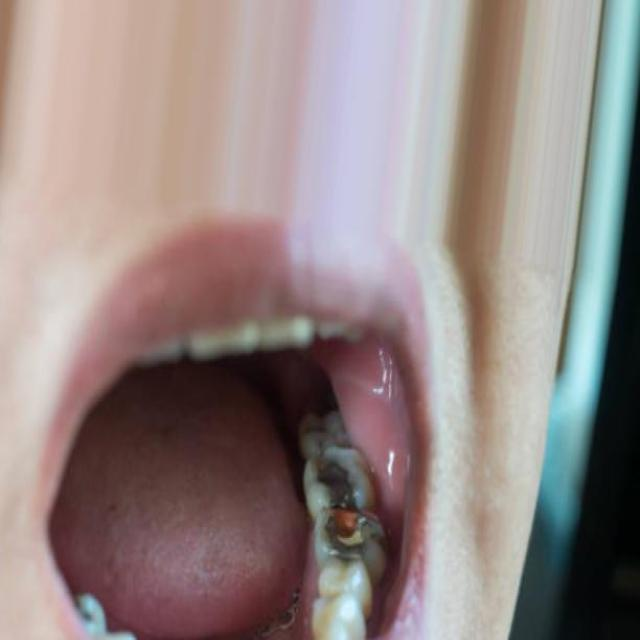caries: (312, 443, 384, 566)
